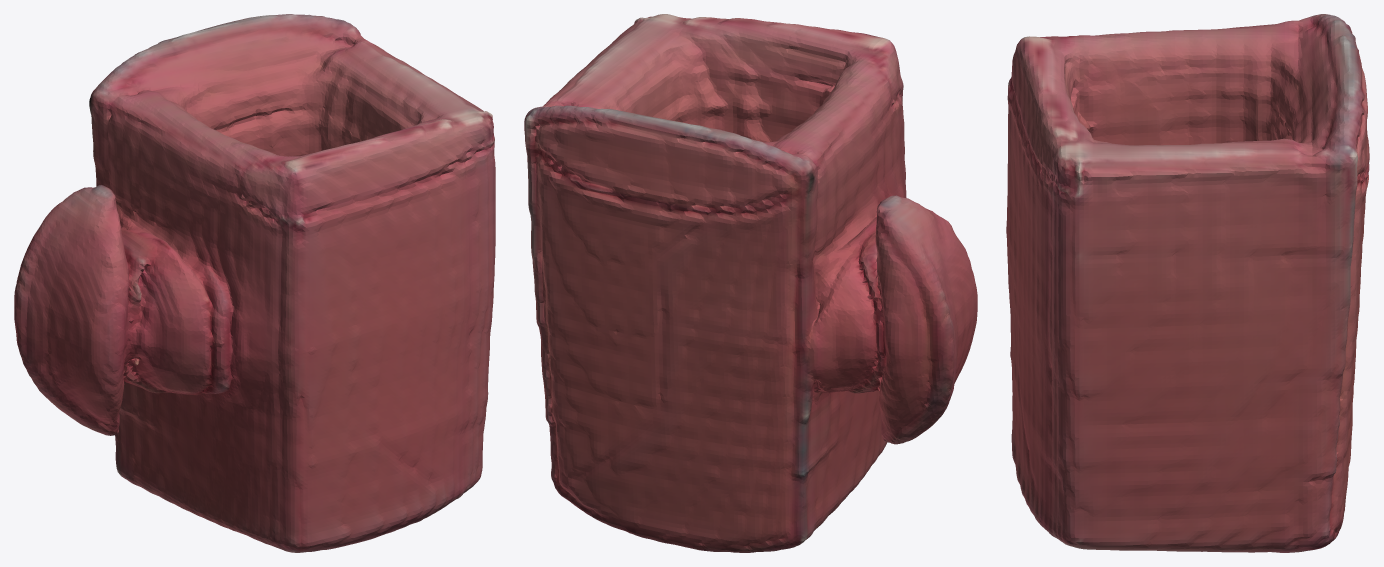
File: model_from_best_candidate.glb
3 renders of one model, left to right at view 1: azimuth 30°, elevation 25°; view 2: azimuth 150°, elevation 25°; view 3: azimuth 270°, elevation 25°, orthographic. The views are drawn at different scales.
Parts seen in each view (by area): view 1: geometry_0; view 2: geometry_0; view 3: geometry_0.
Part boxes in pixels (left/top/right/bottom): geometry_0: left=14, top=14, right=495, bottom=552; geometry_0: left=524, top=14, right=977, bottom=552; geometry_0: left=1006, top=14, right=1369, bottom=552.
Bounding box in the file's own units: 0.9766 × 1 × 0.7263.
